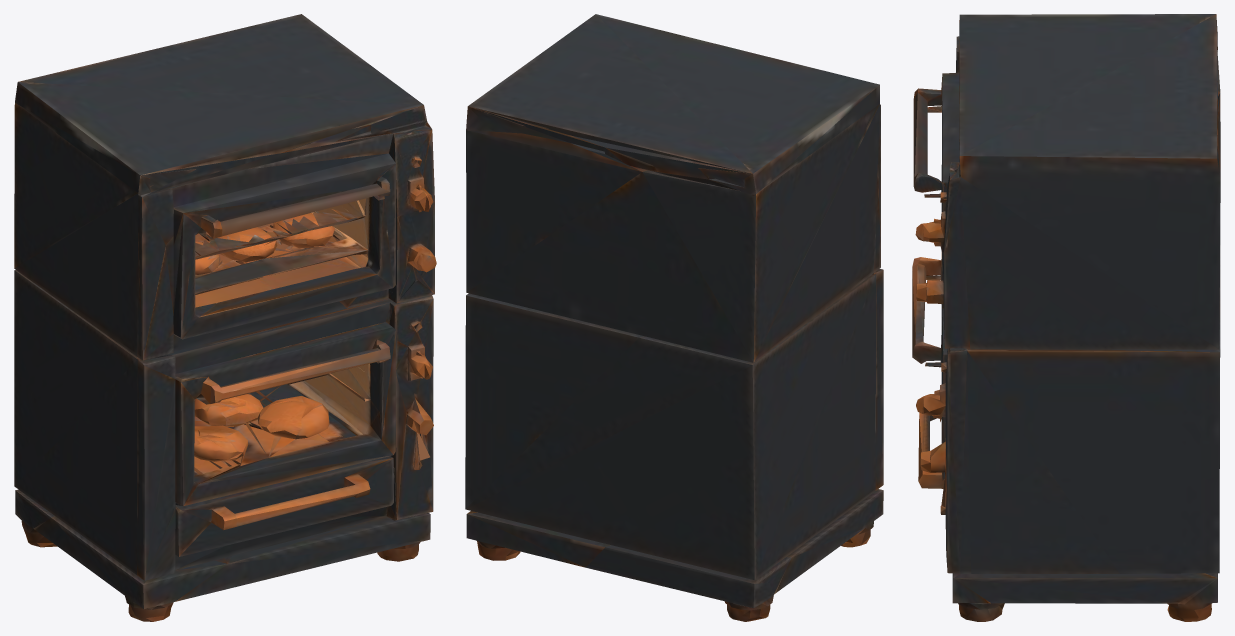
File: deck_oven.glb
3 views of the same model, side by side, from view 1: azimuth 30°, elevation 25°; view 2: azimuth 150°, elevation 25°; view 3: azimuth 270°, elevation 25° (orthographic). The views are drawn at different scales.
Size of the model in its own units: 1.28 by 1.9 by 1.14.
Materials: 1 (1 with a texture image).
